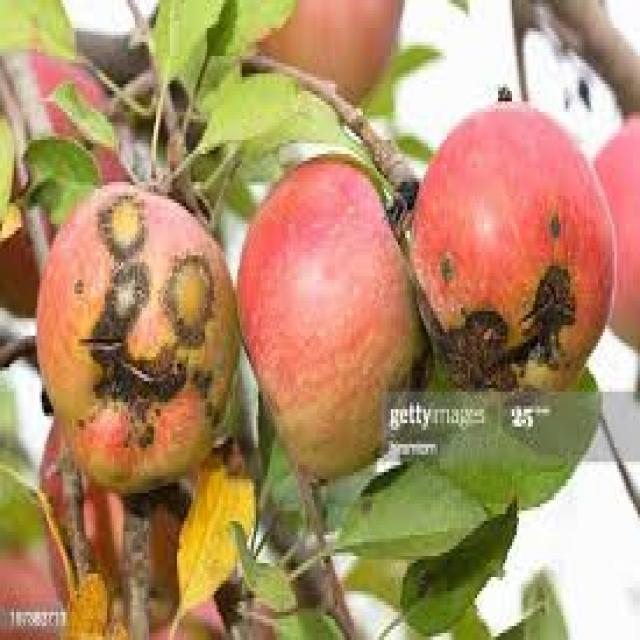organic waste: (33, 175, 235, 496), (233, 147, 426, 479), (407, 84, 612, 395), (0, 49, 142, 315), (37, 413, 193, 633), (0, 535, 228, 637), (216, 0, 402, 101), (591, 108, 638, 346)
